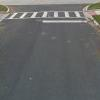Crosswalk: (4, 5, 85, 32)
